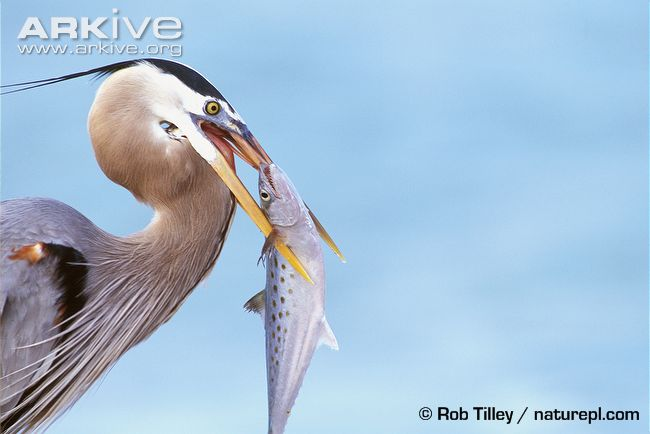heron: (1, 54, 334, 432)
